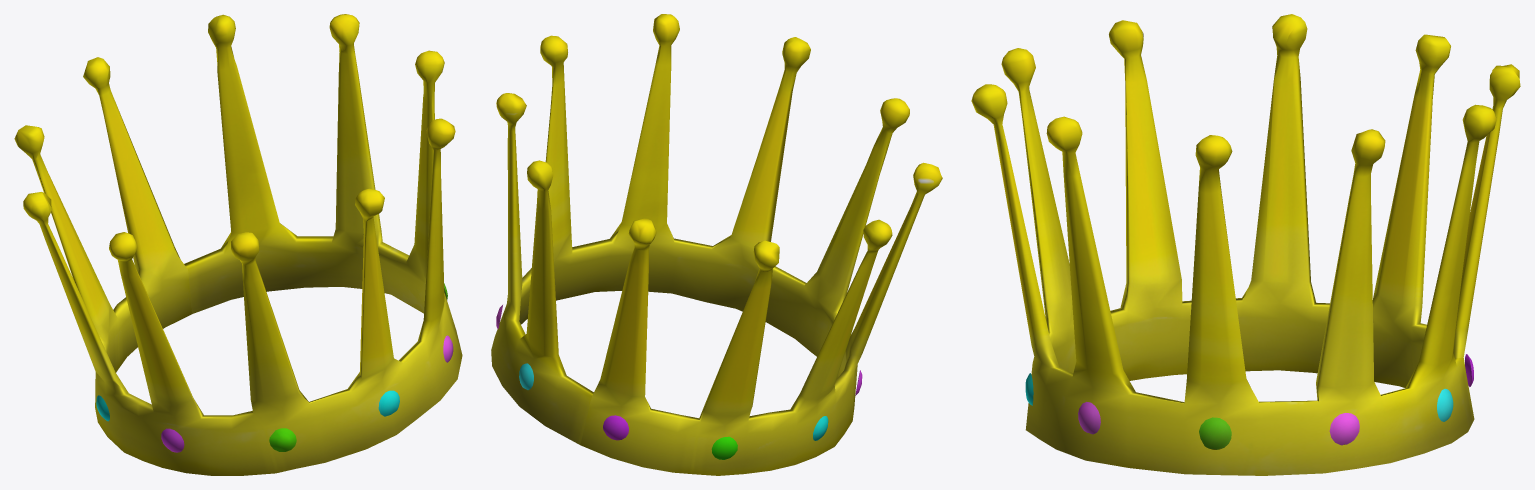
The model's file is strawberry_crown.fbx.
3 renders of one model, left to right at view 1: azimuth 30°, elevation 25°; view 2: azimuth 150°, elevation 25°; view 3: azimuth 270°, elevation 25°, orthographic. The views are drawn at different scales.
Visible parts, largest first — view 1: Modelmesh1; view 2: Modelmesh1; view 3: Modelmesh1.
Boxes of the visible parts, x1,y1,x2,y2 form: Modelmesh1: (14, 14, 462, 475); Modelmesh1: (491, 14, 942, 475); Modelmesh1: (971, 14, 1520, 475).
Size of the model in its own units: 3.11 by 2.54 by 3.13.
